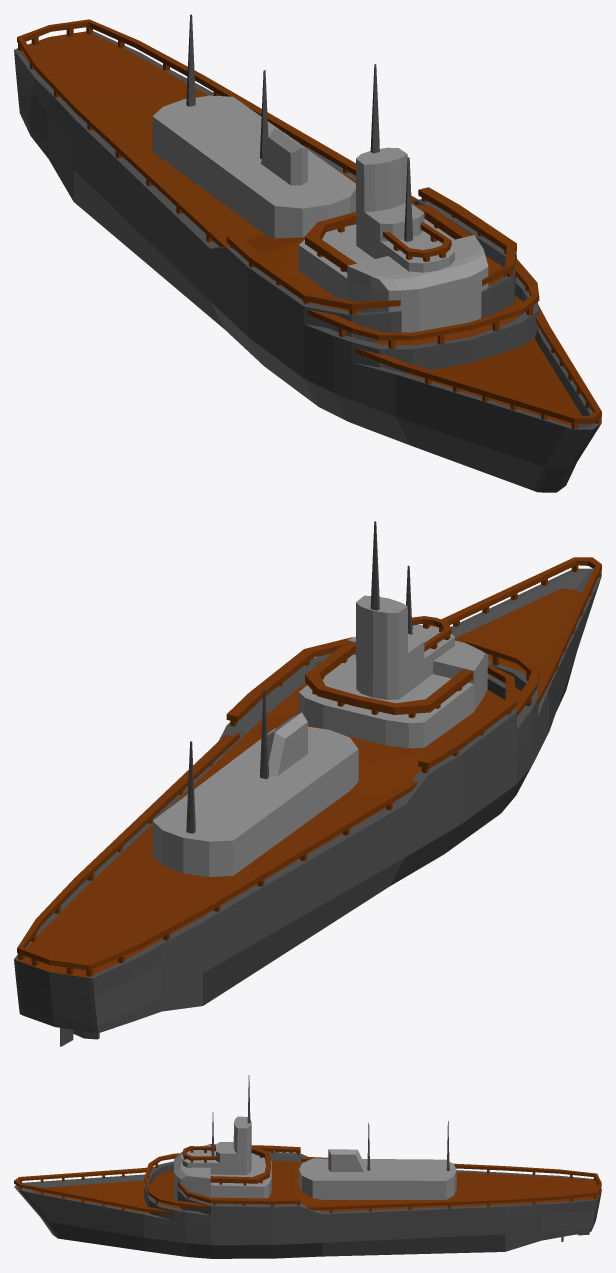
The model's file is 13.06_Bubuia_navio1-0.fbx.
The picture shows the model from 3 angles, top to bottom: view 1: azimuth 30°, elevation 25°; view 2: azimuth 150°, elevation 25°; view 3: azimuth 270°, elevation 25°; orthographic projection. The views are drawn at different scales.
Parts seen in each view (by area): view 1: Cube; view 2: Cube; view 3: Cube.
Part boxes in pixels (<box>): Cube: <box>14,14,601,492</box>; Cube: <box>14,521,601,1046</box>; Cube: <box>14,1075,601,1258</box>.
Bounding box in the file's own units: 4.51 × 6.16 × 19.97.
